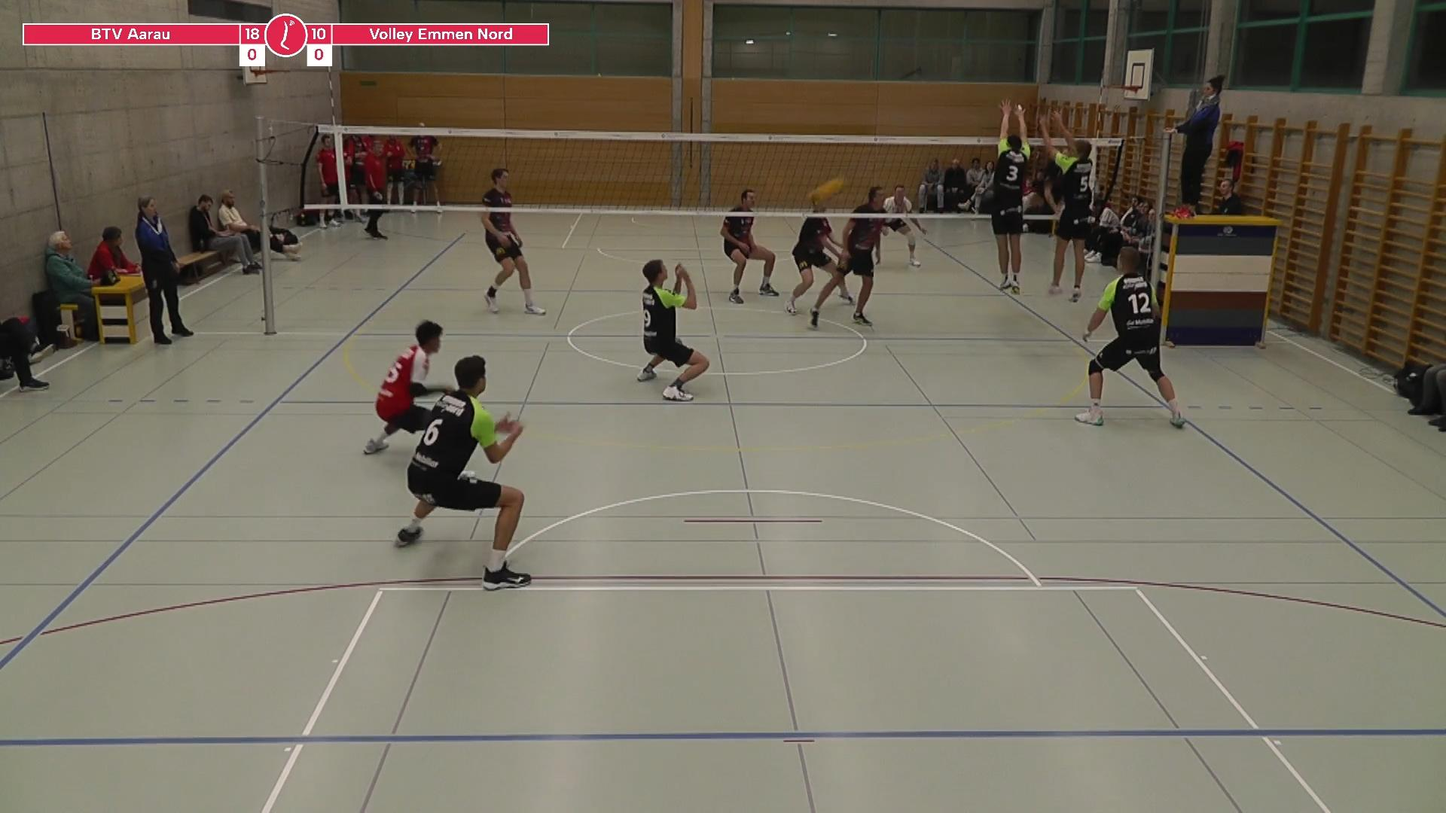Block: (1037, 103, 1091, 302), (982, 95, 1029, 296)
Player: (396, 356, 530, 589), (1075, 248, 1185, 427), (365, 321, 446, 454), (637, 260, 709, 401), (482, 168, 545, 315), (786, 199, 852, 314), (720, 189, 778, 303), (842, 186, 883, 325), (884, 184, 926, 267)
ball: (803, 171, 845, 206)
